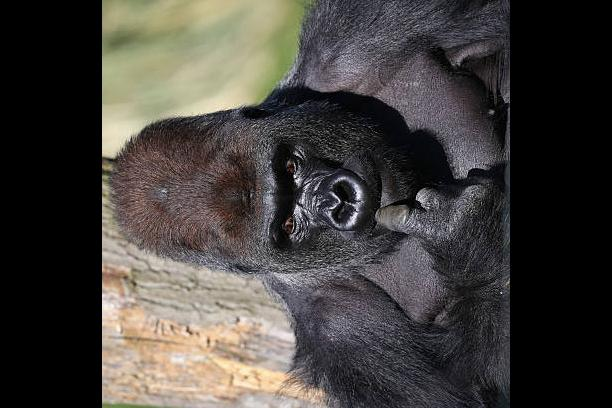gorille_Autres: (102, 0, 505, 408)
